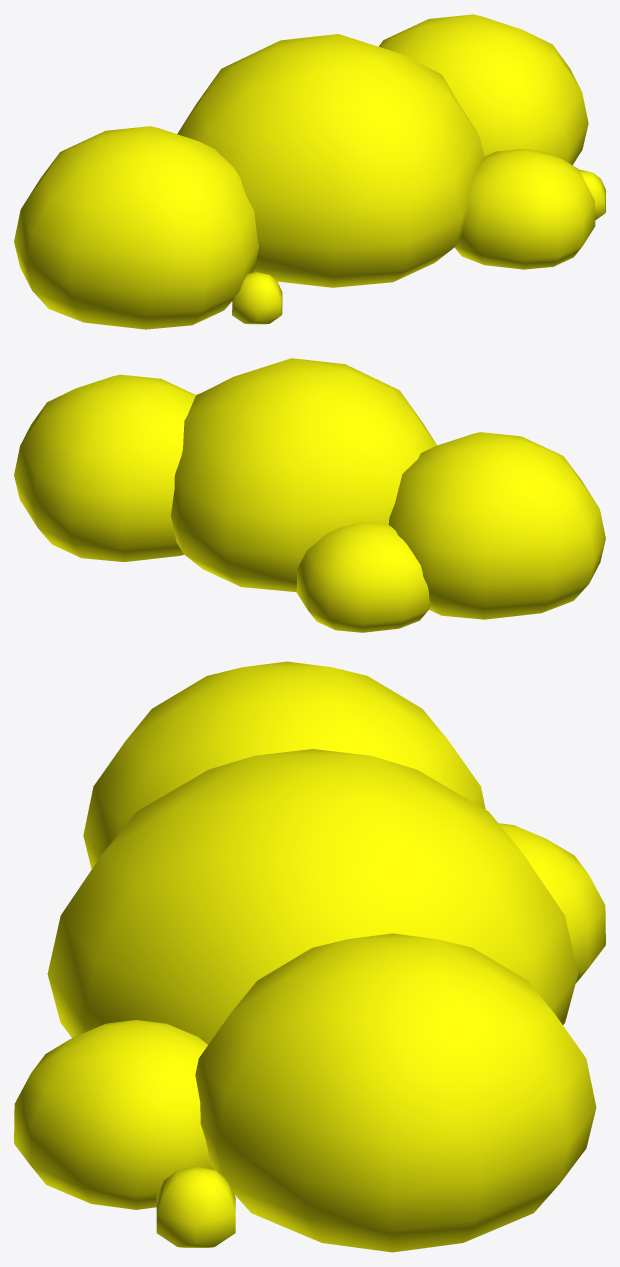
The model's file is kaykit-bush-1-g-color-1.glb.
3 views of the same model, one above another, from view 1: azimuth 30°, elevation 25°; view 2: azimuth 150°, elevation 25°; view 3: azimuth 270°, elevation 25° (orthographic). The views are drawn at different scales.
Parts seen in each view (by area): view 1: Bush_1_G_Color1; view 2: Bush_1_G_Color1; view 3: Bush_1_G_Color1.
Boxes of the visible parts, x1=… form: Bush_1_G_Color1: x1=14, y1=14, x2=605, y2=329; Bush_1_G_Color1: x1=14, y1=358, x2=605, y2=632; Bush_1_G_Color1: x1=14, y1=661, x2=605, y2=1252.
Bounding box in the file's own units: 3.1 × 0.9936 × 1.75.
